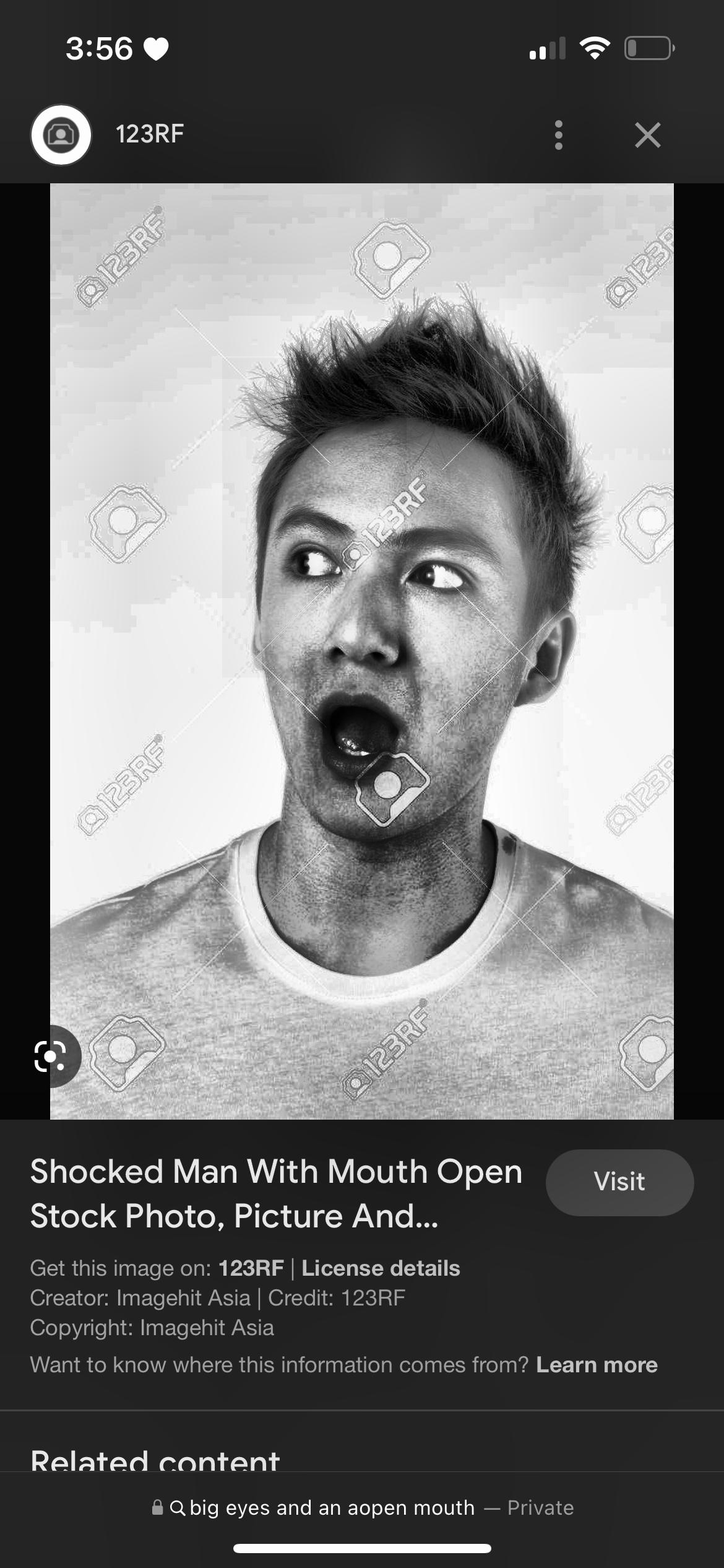Surprised: (275, 443, 503, 837)
